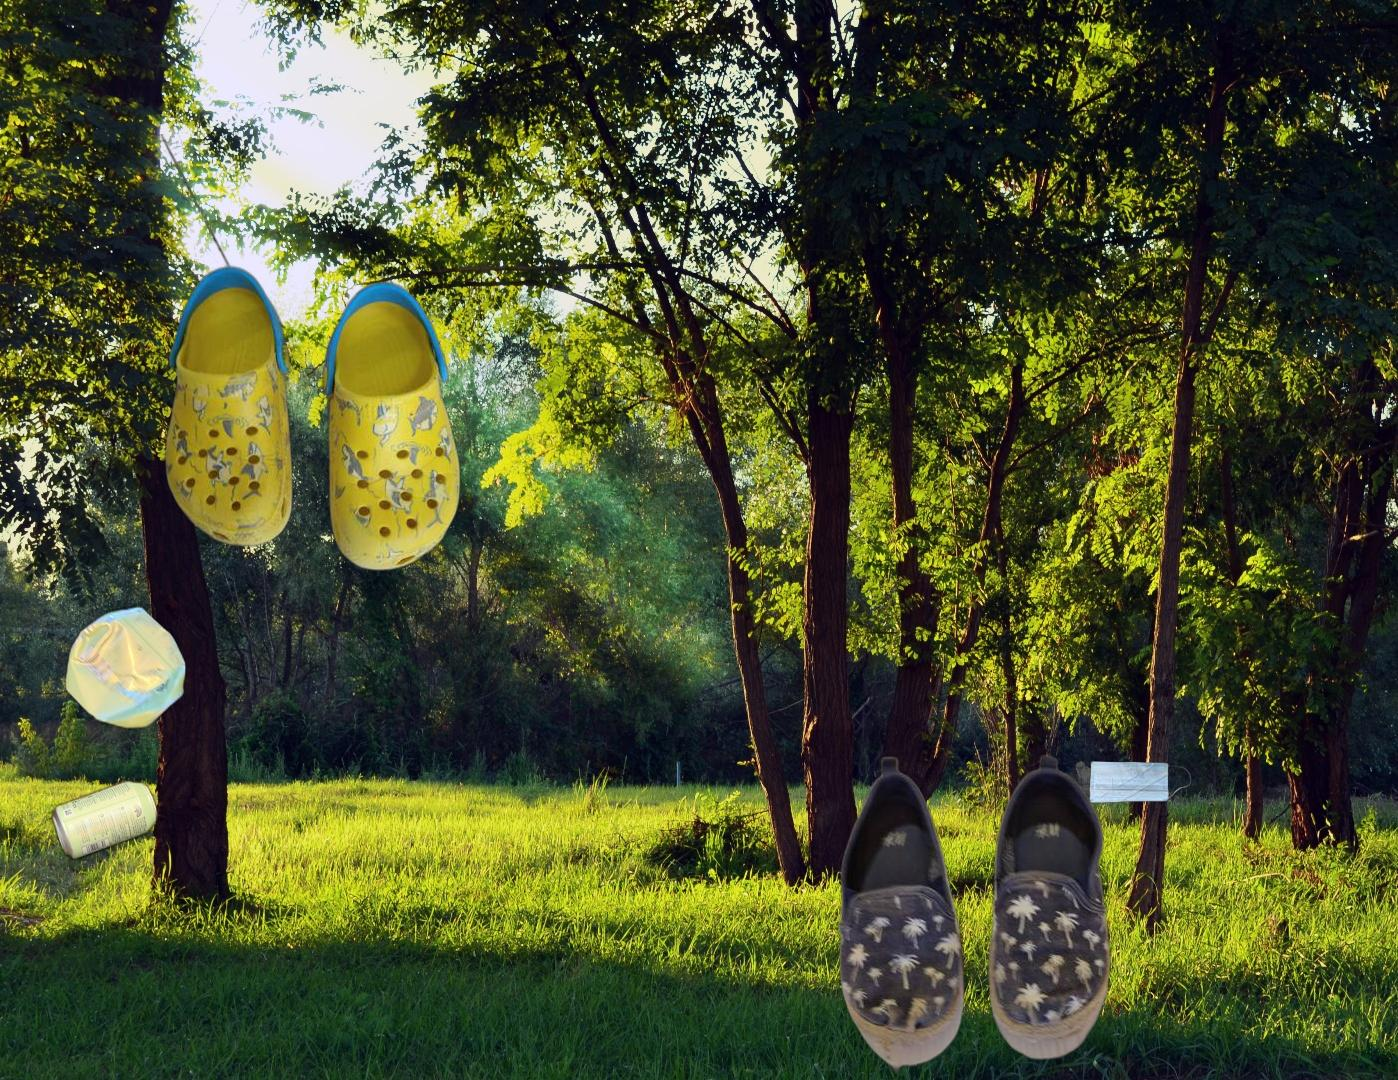metal-cans: (60, 600, 191, 735), (47, 774, 163, 866)
shoes: (158, 134, 463, 575), (834, 751, 1115, 1080)
trash: (1067, 758, 1193, 805)
